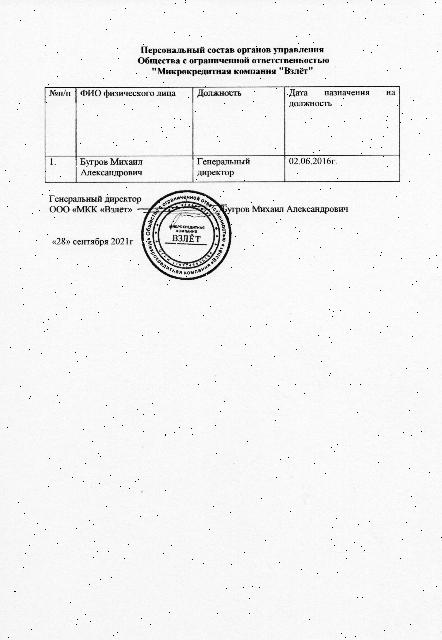stamp: (141, 188, 233, 280)
